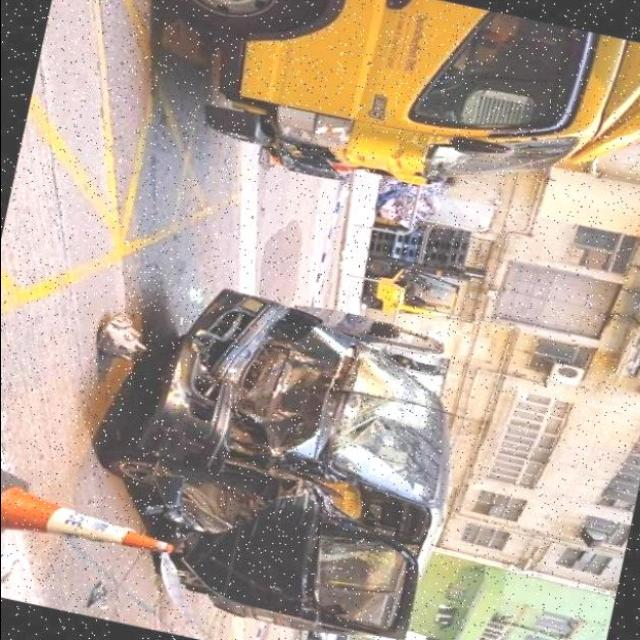accident: (77, 281, 471, 639)
